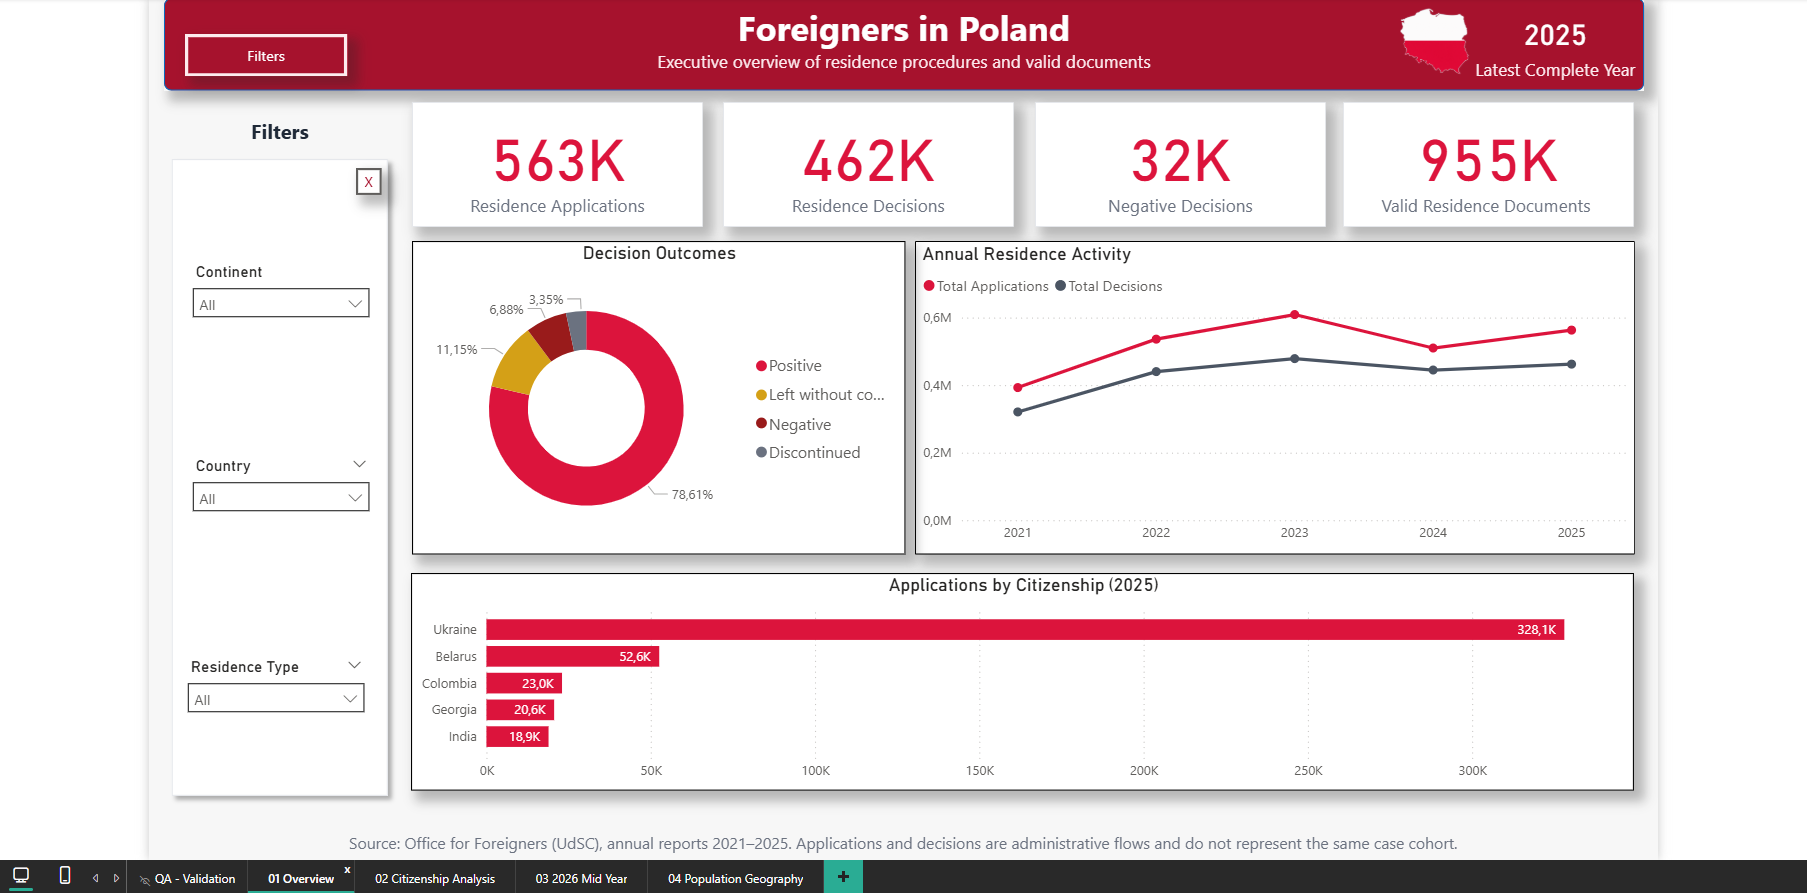

This screenshot's page, from the dashboard's own definition file:
{"tool":"powerbi","page":{"name":"01 Overview","canvas":[1400,800],"ordinal":1},"visuals":[{"type":"shape","box":[14.3,0,1373.7,86],"z":0},{"type":"shape","title":"Filters","box":[12.5,110,218.6,639.1],"z":0,"group":"g1"},{"type":"textbox","box":[14.3,0,1373.7,86],"z":1000},{"type":"card","fields":{"Values":["_Measures.Latest Complete Year"]},"box":[1222,1.2,166,84.8],"z":2000},{"type":"card","fields":{"Values":["_Measures.Applications Latest Year"]},"box":[243.7,96.8,270,115.9],"z":3000},{"type":"card","fields":{"Values":["_Measures.Decisions Latest Year"]},"box":[532.8,96.8,270,115.9],"z":4000},{"type":"card","fields":{"Values":["_Measures.Negative Decisions Latest Year"]},"box":[821.8,96.8,270,115.9],"z":5000},{"type":"card","fields":{"Values":["_Measures.Core Valid Documents Latest Year"]},"box":[1108.5,96.8,270,115.9],"z":6000},{"type":"lineChart","title":"Annual Residence Activity","fields":{"Category":["dim_period_conformed.year"],"Y":["_Measures.Total Applications","_Measures.Total Decisions"]},"box":[710.8,225.8,667.7,291.5],"z":7000},{"type":"donutChart","title":"Decision Outcomes","fields":{"Category":["dim_decision_outcome.decision_outcome_name_en"],"Y":["_Measures.Decisions Latest Year"]},"box":[243.7,225.8,457.5,291.5],"z":8000},{"type":"clusteredBarChart","title":"Applications by Citizenship (2025)","fields":{"Category":["dim_country_conformed.country_name_standard_en"],"Y":["_Measures.Applications Latest Year"]},"box":[243.3,533.4,1134.7,202],"z":9000},{"type":"textbox","box":[0,768.1,1400,32.3],"z":10000},{"type":"actionButton","box":[33.4,33.4,150.5,39.4],"z":11000},{"type":"group","id":"g1","title":"Filter Panel","box":[12.5,110,218.6,639.1],"z":12000},{"type":"image","box":[1116.2,0,151.3,81.4],"z":13000},{"type":"actionButton","box":[192.9,157.8,23.9,25.1],"z":13000,"group":"g1"},{"type":"slicer","title":"Country","fields":{"Values":["dim_country_conformed.continent"]},"box":[30.6,241.2,183.8,85],"z":16500,"group":"g1"},{"type":"slicer","title":"Country","fields":{"Values":["dim_country_conformed.country_name_standard_en"]},"box":[30.6,421.2,183.8,85],"z":17000,"group":"g1"},{"type":"slicer","title":"Country","fields":{"Values":["dim_residence_type.residence_type_name_en"]},"box":[26.9,607.5,183.8,85],"z":17500,"group":"g1"}]}

Visuals, with their boxes on the page's 1400x800 design canvas (x1, y1, x2, y2). These are canvas units, not pixel positions in the 1807x893 screenshot, which may show the page scaled, cropped or inside an application window:
shape: x1=14, y1=0, x2=1388, y2=86
"Filters" shape: x1=12, y1=110, x2=231, y2=749
textbox: x1=14, y1=0, x2=1388, y2=86
card - _Measures.Latest Complete Year: x1=1222, y1=1, x2=1388, y2=86
card - _Measures.Applications Latest Year: x1=244, y1=97, x2=514, y2=213
card - _Measures.Decisions Latest Year: x1=533, y1=97, x2=803, y2=213
card - _Measures.Negative Decisions Latest Year: x1=822, y1=97, x2=1092, y2=213
card - _Measures.Core Valid Documents Latest Year: x1=1108, y1=97, x2=1378, y2=213
"Annual Residence Activity" lineChart: x1=711, y1=226, x2=1378, y2=517
"Decision Outcomes" donutChart: x1=244, y1=226, x2=701, y2=517
"Applications by Citizenship (2025)" clusteredBarChart: x1=243, y1=533, x2=1378, y2=735
textbox: x1=0, y1=768, x2=1400, y2=800
actionButton: x1=33, y1=33, x2=184, y2=73
"Filter Panel" group: x1=12, y1=110, x2=231, y2=749
image: x1=1116, y1=0, x2=1268, y2=81
actionButton: x1=193, y1=158, x2=217, y2=183
"Country" slicer: x1=31, y1=241, x2=214, y2=326
"Country" slicer: x1=31, y1=421, x2=214, y2=506
"Country" slicer: x1=27, y1=608, x2=211, y2=692
